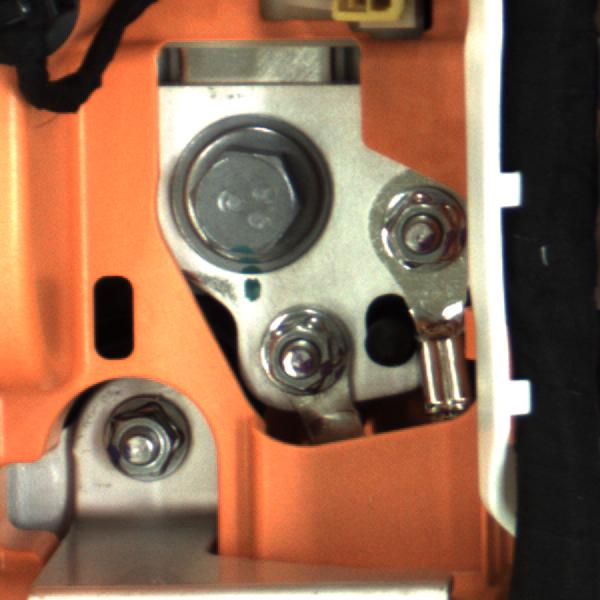nut_b: (159, 113, 340, 269)
screw_s: (248, 303, 353, 396), (97, 397, 203, 489), (371, 187, 466, 282)
